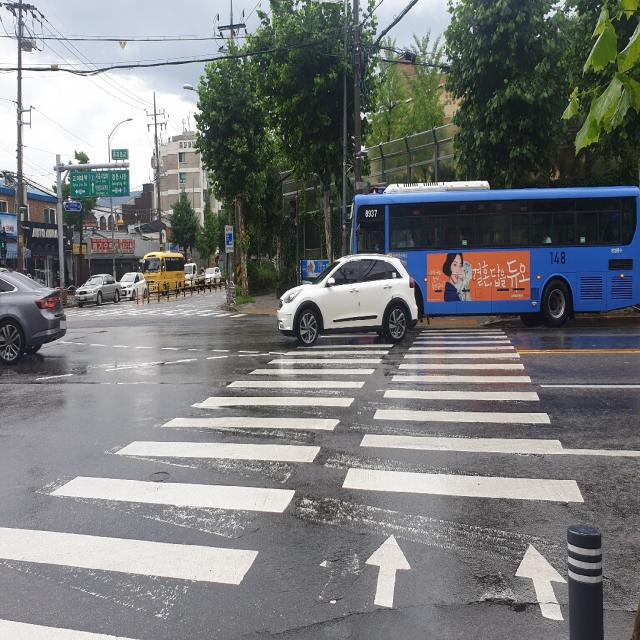횡단보도: (0, 327, 584, 622), (52, 304, 242, 322)
